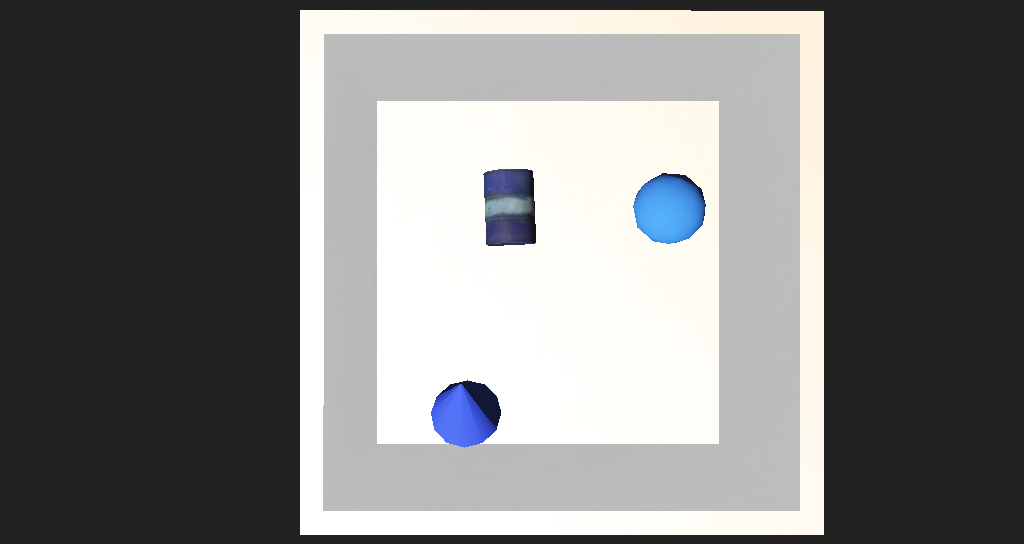cone: (448, 205, 495, 253)
cylinder: (394, 313, 468, 384)
sphere: (583, 208, 643, 251)
